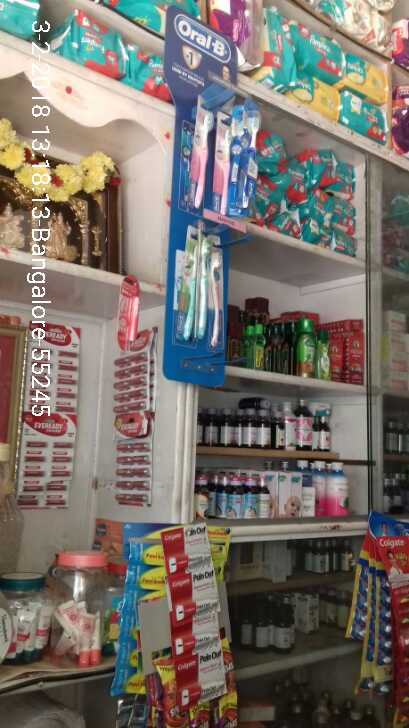oralb: (191, 97, 265, 219), (184, 233, 225, 350)
